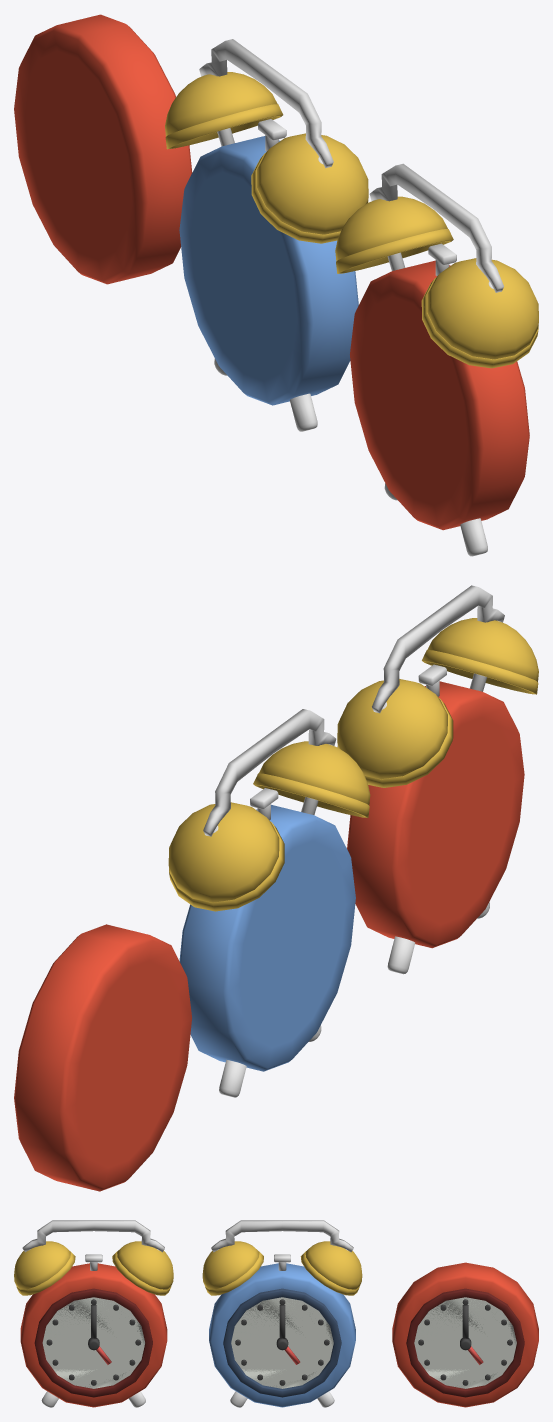
Rendered from uploads_files_2432530_Clocks_model_LP_v04.fbx.
3 views of the same model, one above another, from view 1: azimuth 30°, elevation 25°; view 2: azimuth 150°, elevation 25°; view 3: azimuth 270°, elevation 25° (orthographic). The views are drawn at different scales.
Parts seen in each view (by area): view 1: Cylinder.016, Cylinder.008, Cylinder, Sphere.002, Sphere.001, Cube.003, Cube.007, Cylinder.001, Cylinder.013; view 2: Cylinder.016, Cylinder, Cylinder.008, Sphere.001, Sphere.002, Cube.007, Cube.003, Cylinder.001, Cylinder.013; view 3: Cylinder.016, Cylinder.009, Cylinder.017, Cylinder.002, Cylinder.008, Cylinder, Sphere.002, Sphere.001, Cylinder.005, Cylinder.020, Cylinder.012, Cube.003 (+6 smaller).
Boxes of the visible parts, x1=… form: Cylinder.016: x1=14, y1=14, x2=192, y2=284; Cylinder.008: x1=350, y1=260, x2=529, y2=530; Cylinder: x1=179, y1=136, x2=358, y2=405; Sphere.002: x1=335, y1=196, x2=538, y2=368; Sphere.001: x1=165, y1=72, x2=368, y2=243; Cube.003: x1=199, y1=39, x2=333, y2=168; Cube.007: x1=369, y1=163, x2=503, y2=292; Cylinder.001: x1=214, y1=358, x2=317, y2=431; Cylinder.013: x1=384, y1=483, x2=487, y2=556; Cylinder.016: x1=14, y1=924, x2=191, y2=1191; Cylinder: x1=179, y1=804, x2=355, y2=1071; Cylinder.008: x1=347, y1=681, x2=524, y2=948; Sphere.001: x1=168, y1=741, x2=370, y2=911; Sphere.002: x1=337, y1=618, x2=538, y2=787; Cube.007: x1=372, y1=585, x2=504, y2=713; Cube.003: x1=203, y1=709, x2=336, y2=836; Cylinder.001: x1=219, y1=1025, x2=321, y2=1097; Cylinder.013: x1=387, y1=902, x2=489, y2=974; Cylinder.016: x1=392, y1=1262, x2=538, y2=1407; Cylinder.009: x1=42, y1=1297, x2=144, y2=1388; Cylinder.017: x1=414, y1=1297, x2=516, y2=1388; Cylinder.002: x1=231, y1=1297, x2=333, y2=1388; Cylinder.008: x1=20, y1=1263, x2=167, y2=1407; Cylinder: x1=209, y1=1263, x2=355, y2=1407; Sphere.002: x1=14, y1=1241, x2=173, y2=1295; Sphere.001: x1=202, y1=1241, x2=362, y2=1295; Cylinder.005: x1=223, y1=1288, x2=341, y2=1397; Cylinder.020: x1=406, y1=1288, x2=524, y2=1397; Cylinder.012: x1=34, y1=1288, x2=152, y2=1397; Cube.003: x1=211, y1=1220, x2=353, y2=1252.
Size of the model in its own units: 122 by 375 by 962.
